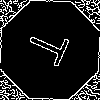T: (24, 24, 79, 72)
